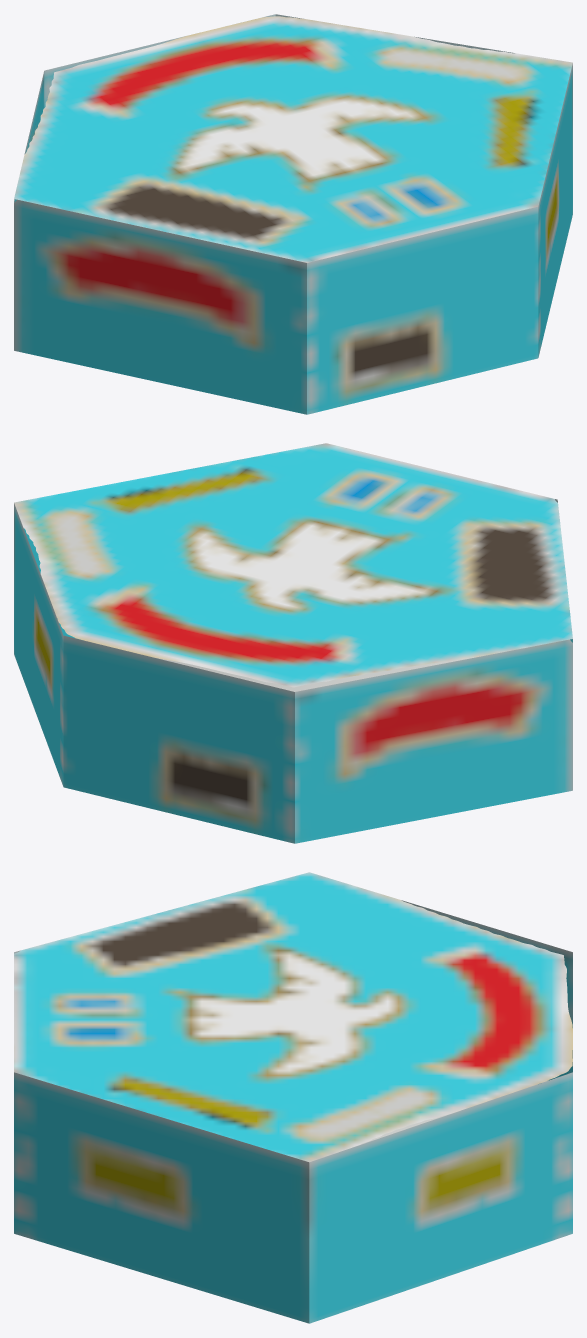
File: giftgoods075b.fbx
The picture shows the model from 3 angles, top to bottom: view 1: azimuth 30°, elevation 25°; view 2: azimuth 150°, elevation 25°; view 3: azimuth 270°, elevation 25°; orthographic projection. The views are drawn at different scales.
Parts seen in each view (by area): view 1: giftgoods075b; view 2: giftgoods075b; view 3: giftgoods075b.
Part boxes in pixels (x1,y1,x2,y2): giftgoods075b: (14, 14, 572, 414); giftgoods075b: (14, 443, 572, 843); giftgoods075b: (14, 872, 572, 1323).
Size of the model in its own units: 0.2987 by 0.0775 by 0.2432.
